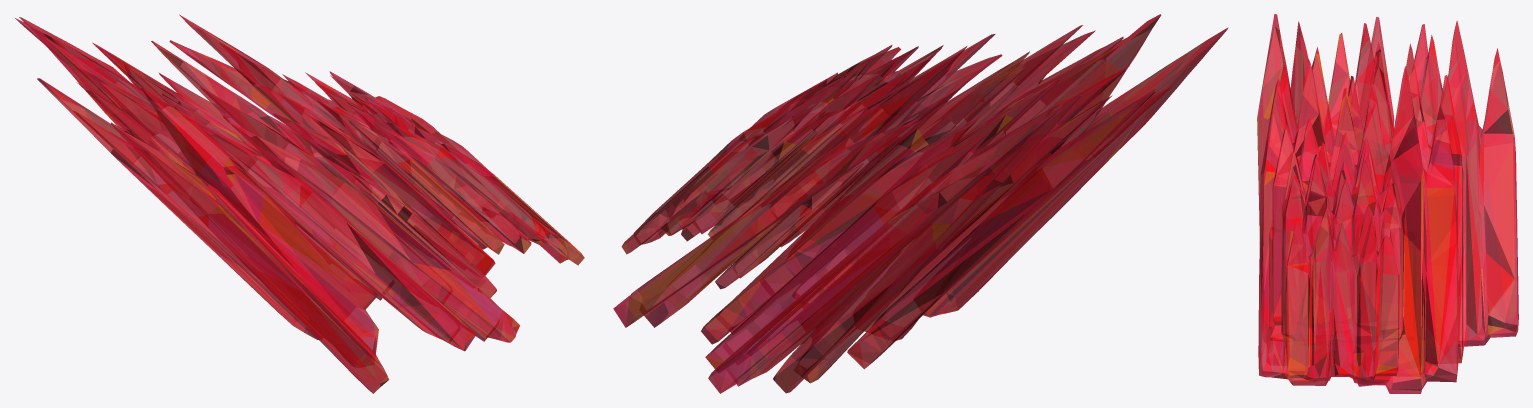
Rendered from DragonSpawn_Crystal1.glb.
The picture shows the model from 3 angles, left to right: view 1: azimuth 30°, elevation 25°; view 2: azimuth 150°, elevation 25°; view 3: azimuth 270°, elevation 25°; orthographic projection. The views are drawn at different scales.
Visible parts, largest first — view 1: Crystal1; view 2: Crystal1; view 3: Crystal1.
Part boxes in pixels (x1,y1,x2,y2): Crystal1: (15,14,584,393); Crystal1: (613,14,1228,393); Crystal1: (1257,14,1518,393).
Size of the model in its own units: 16.8 by 11.42 by 10.65.
1 material, 1 textured.
